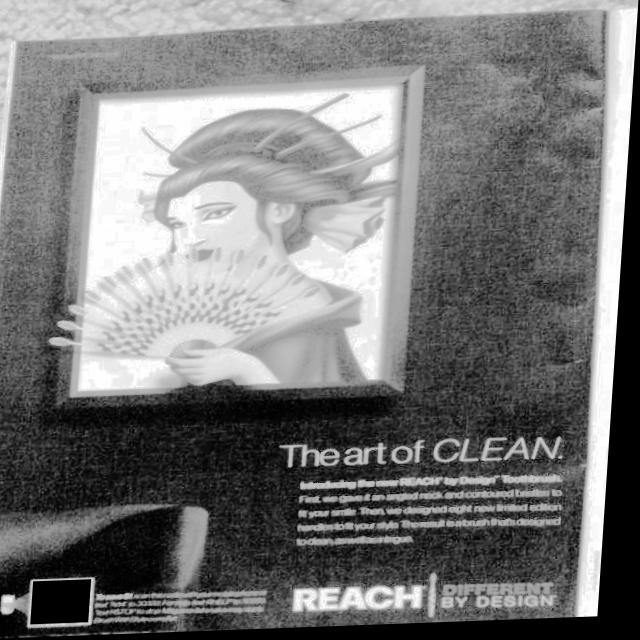qr_code: (39, 580, 99, 625)
